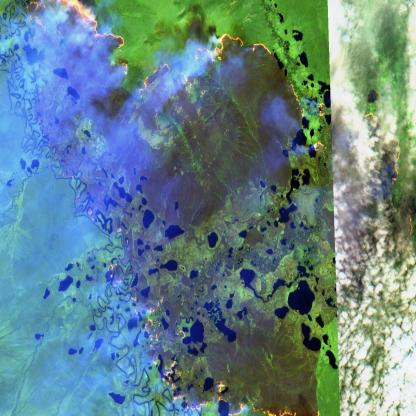fire: (106, 259, 298, 416), (24, 0, 276, 107), (286, 75, 328, 163)
